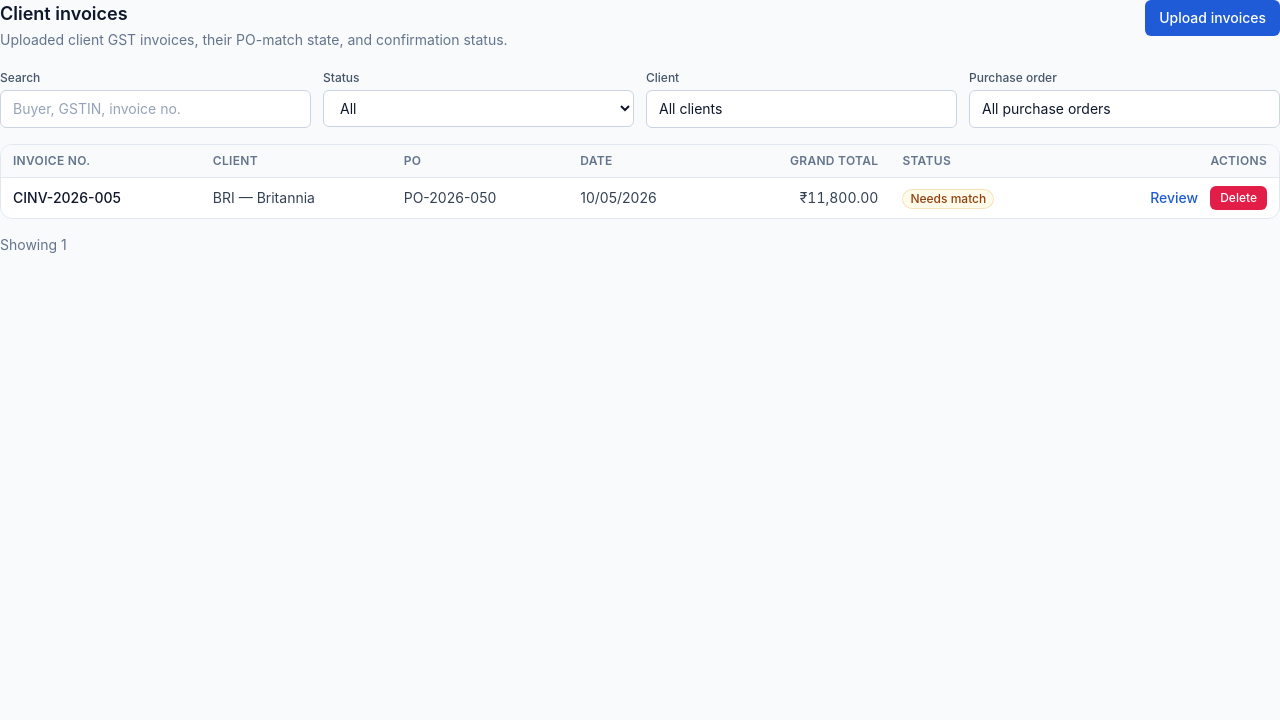
Scenario: Register (InvoicesPage) › surfaces the backend refusal (409) when a register row cannot be deleted
The width and height of the screenshot is (1280, 720).
expect the text "CINV-2026-005" is shown: met, box [1,178,201,218]
Click the button with aria-label "delete invoice CINV-2026-005": (1239, 198) [1210,186,1267,210]
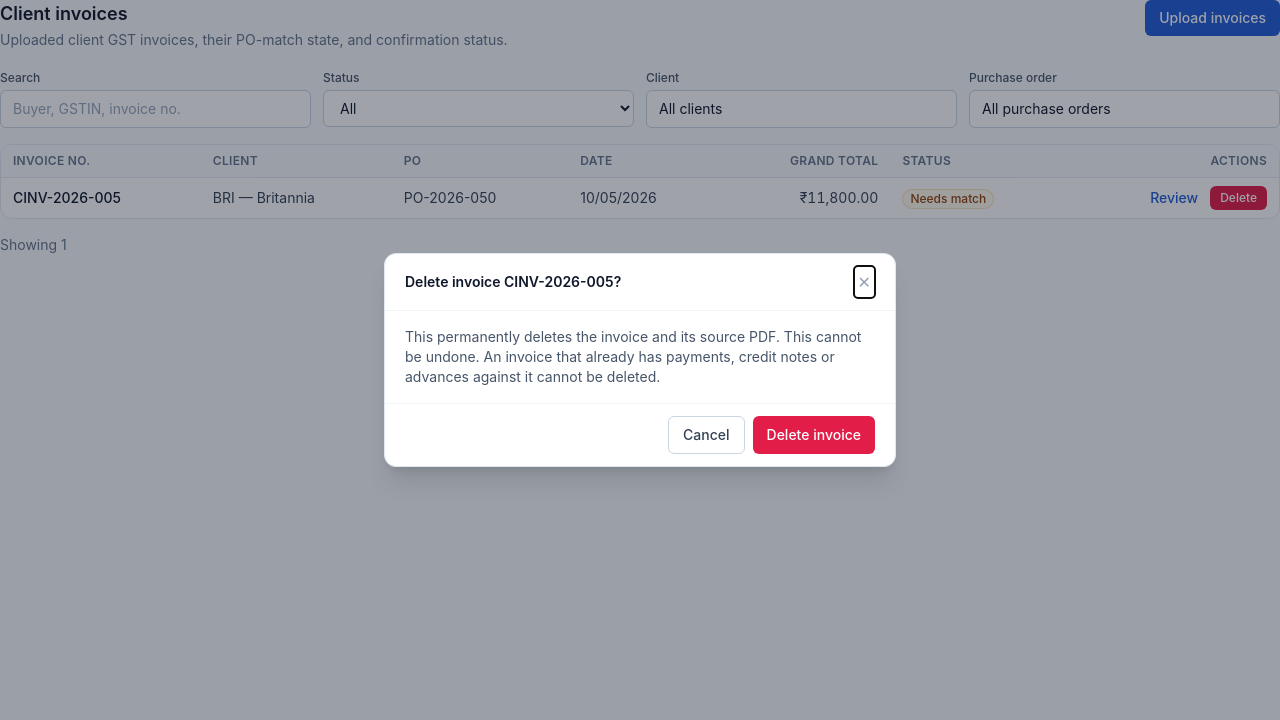
Click the button "Delete invoice": (814, 435) [752,416,875,454]
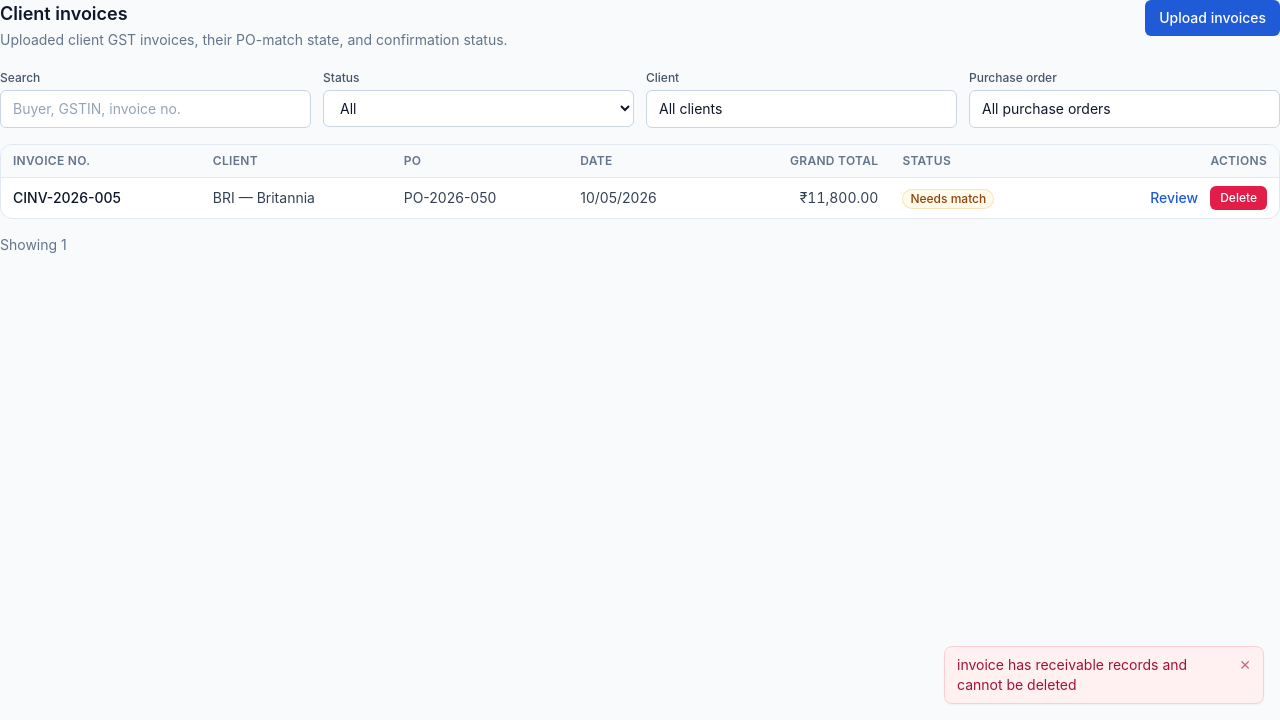
expect the text "invoice has receivable records and cannot be deleted" is shown: met, box [957,656,1187,693]
